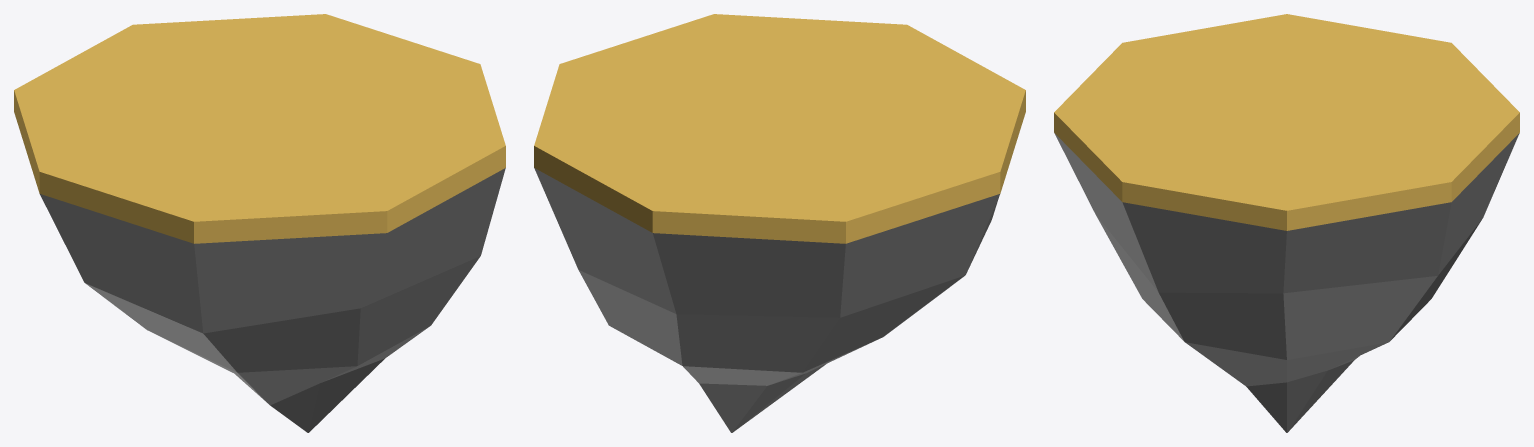
Rendered from launchPad.fbx.
3 renders of one model, left to right at view 1: azimuth 30°, elevation 25°; view 2: azimuth 150°, elevation 25°; view 3: azimuth 270°, elevation 25°, orthographic. The views are drawn at different scales.
Visible parts, largest first — view 1: Cylinder.001, Cylinder; view 2: Cylinder.001, Cylinder; view 3: Cylinder.001, Cylinder.
Boxes of the visible parts, x1,y1,x2,y2 form: Cylinder.001: (14,14,505,243); Cylinder: (40,168,505,432); Cylinder.001: (534,14,1025,243); Cylinder: (534,168,999,432); Cylinder.001: (1054,14,1519,230); Cylinder: (1054,133,1519,432).
Bounding box in the file's own units: 772 × 546 × 772.
